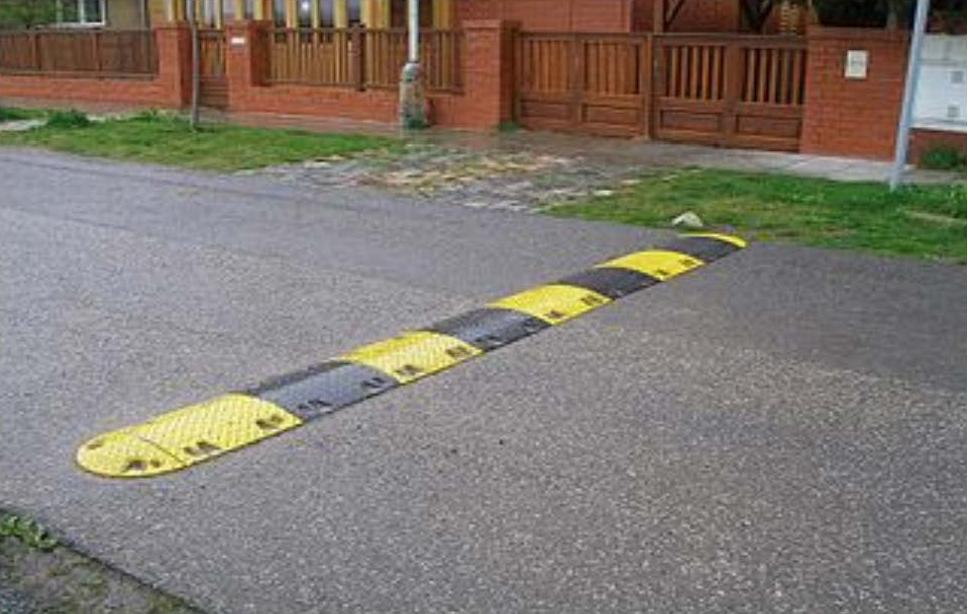Bump: (99, 227, 767, 486)
